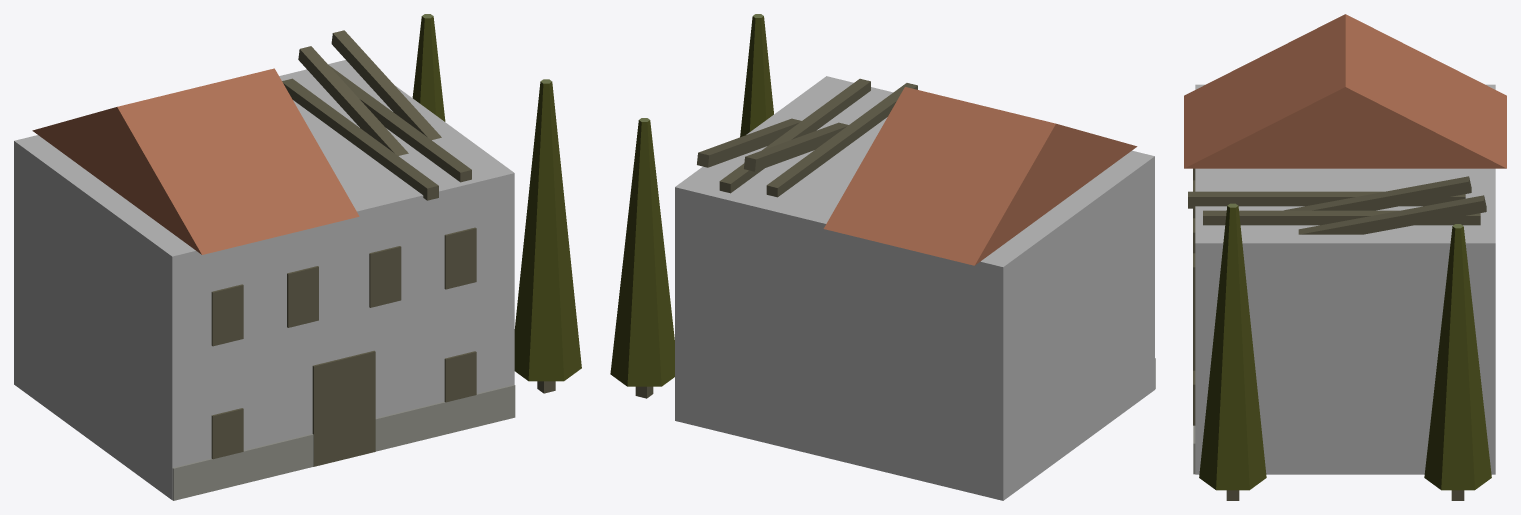
File: SM_CasaLabor_v3_Abandonada_LOD1.fbx
3 renders of one model, left to right at view 1: azimuth 30°, elevation 25°; view 2: azimuth 150°, elevation 25°; view 3: azimuth 270°, elevation 25°, orthographic. The views are drawn at different scales.
Parts seen in each view (by area): view 1: SM_bloques.viveres_nules_v13_LOD1; view 2: SM_bloques.viveres_nules_v13_LOD1; view 3: SM_bloques.viveres_nules_v13_LOD1.
Boxes of the visible parts, <box> form: SM_bloques.viveres_nules_v13_LOD1: <box>14,14,581,500</box>; SM_bloques.viveres_nules_v13_LOD1: <box>610,14,1155,500</box>; SM_bloques.viveres_nules_v13_LOD1: <box>1184,14,1506,500</box>.
Size of the model in its own units: 12.28 by 9.2 by 8.6.
